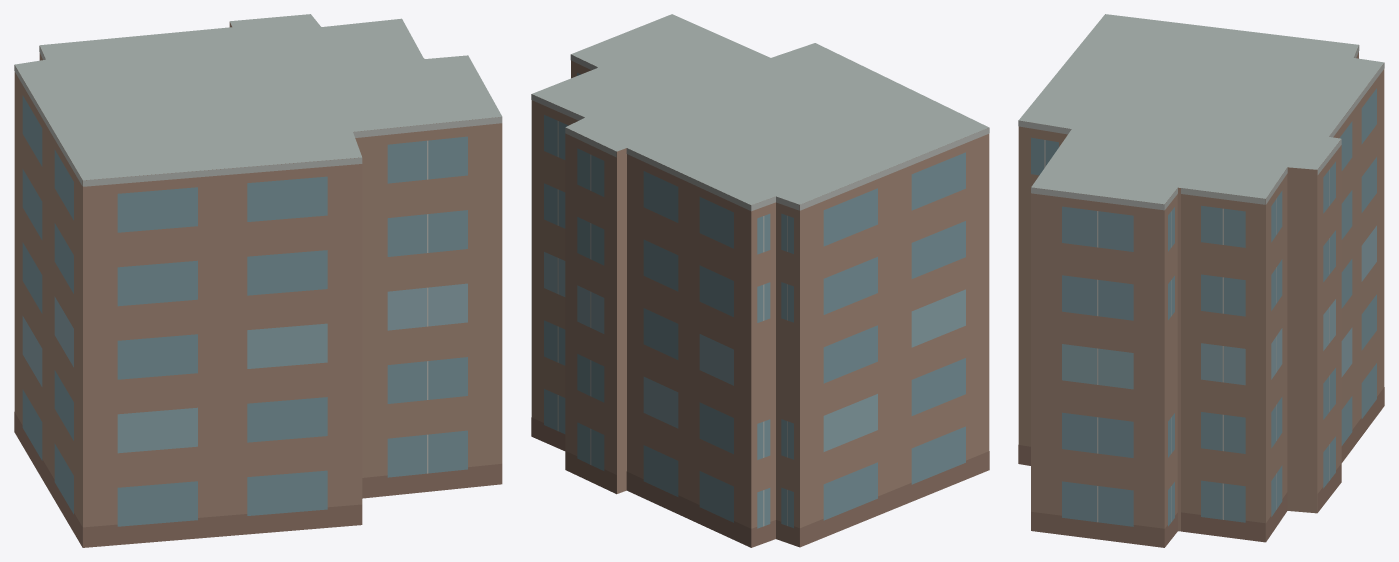
Rendered from survey-upis-32961601.glb.
3 views of the same model, side by side, from view 1: azimuth 30°, elevation 25°; view 2: azimuth 150°, elevation 25°; view 3: azimuth 270°, elevation 25° (orthographic). The views are drawn at different scales.
Visible parts, largest first — view 1: survey-upis-32961601.tmp; view 2: survey-upis-32961601.tmp; view 3: survey-upis-32961601.tmp.
Part boxes in pixels (bbox=[...]): survey-upis-32961601.tmp: bbox=[14, 14, 502, 547]; survey-upis-32961601.tmp: bbox=[531, 14, 989, 547]; survey-upis-32961601.tmp: bbox=[1018, 14, 1384, 547].
Size of the model in its own units: 16.52 by 13.9 by 13.43.
